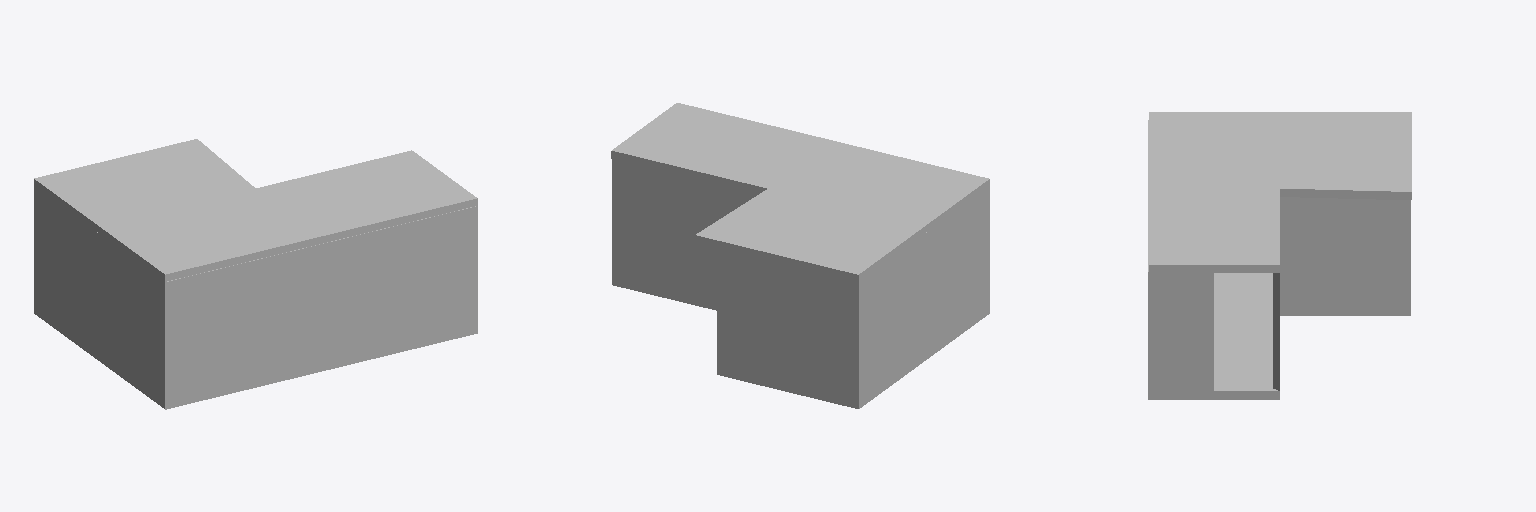
The model's file is House.obj.
3 views of the same model, side by side, from view 1: azimuth 30°, elevation 25°; view 2: azimuth 150°, elevation 25°; view 3: azimuth 270°, elevation 25° (orthographic).
Visible parts, largest first — view 1: Cube, Plane; view 2: Cube, Plane; view 3: Plane, Cube.
Part boxes in pixels (left/top/right/bottom): Cube: left=34, top=186, right=477, bottom=409; Plane: left=34, top=139, right=477, bottom=281; Cube: left=612, top=159, right=989, bottom=408; Plane: left=611, top=103, right=989, bottom=282; Plane: left=1149, top=112, right=1411, bottom=272; Cube: left=1148, top=120, right=1410, bottom=399.
Size of the model in its own units: 11 by 4.53 by 8.02.